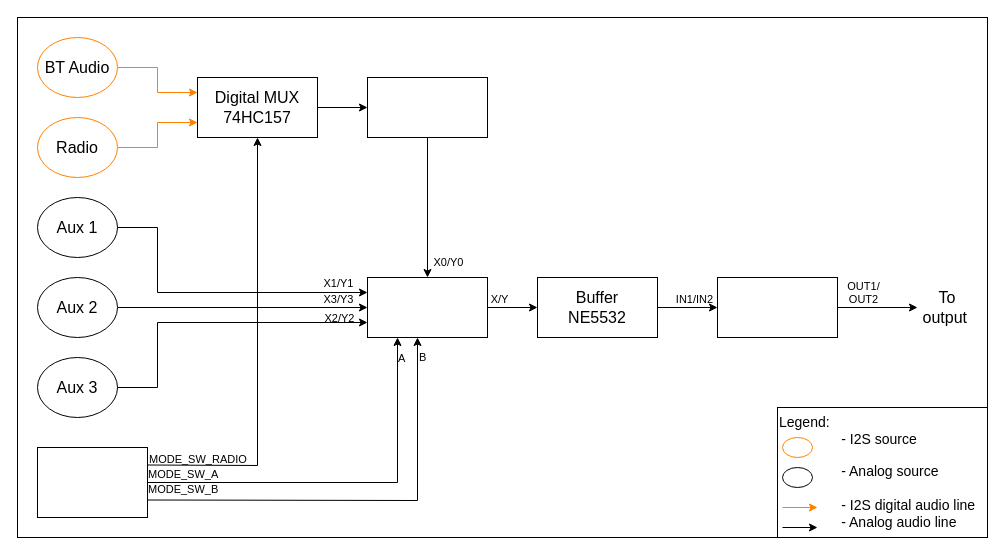
Some shapes in this 1005 by 555 pixel diagram are drawn without their labels. The shapes that lost their labels are listed below. From the top down, each one's centre as x and y in pixels, then its label:
At point (427, 107): "DAC PCM5102".
At point (427, 307): "Analog MUX 74HC4052".
At point (777, 307): "E-VOL PT2258".
At point (92, 482): "Rotary Switch".
